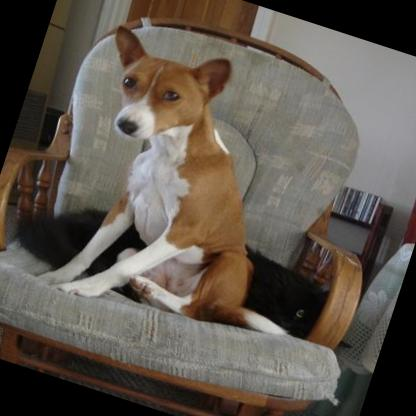basenji: (31, 20, 362, 358)
